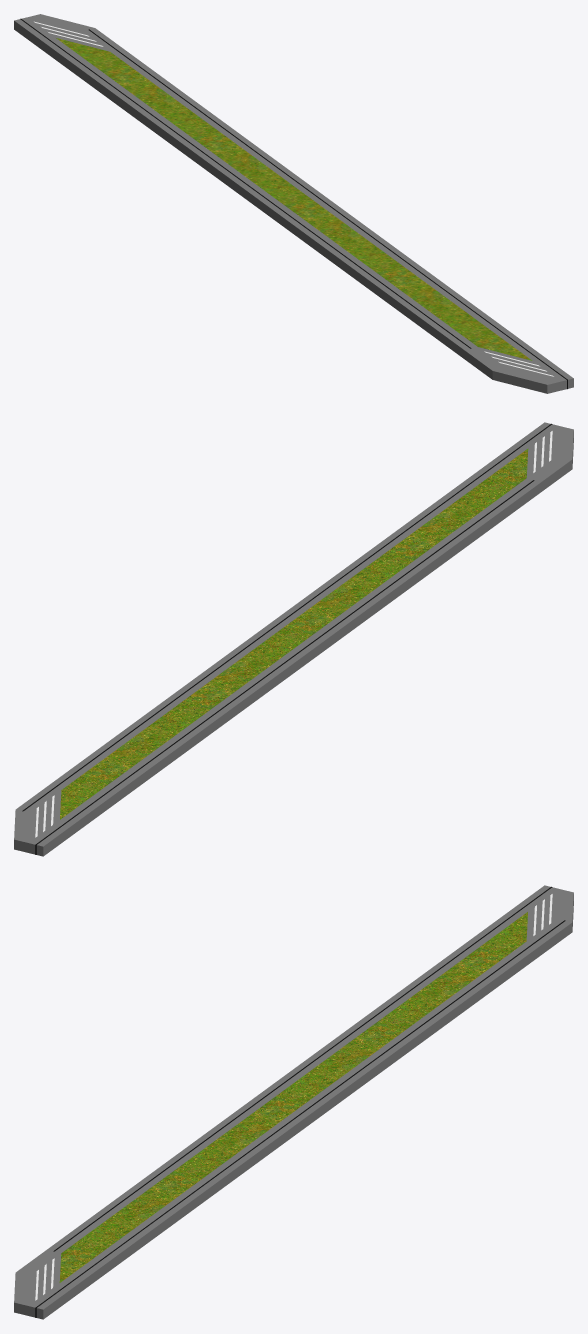
File: W_O_Playground_Glassbed_001_L1.fbx
3 views of the same model, one above another, from view 1: azimuth 30°, elevation 25°; view 2: azimuth 150°, elevation 25°; view 3: azimuth 330°, elevation 25° (orthographic). The views are drawn at different scales.
Parts seen in each view (by area): view 1: W_O_Playground_Glassbed_001_L1; view 2: W_O_Playground_Glassbed_001_L1; view 3: W_O_Playground_Glassbed_001_L1.
Part boxes in pixels (bbox=[...]): W_O_Playground_Glassbed_001_L1: bbox=[14, 14, 573, 393]; W_O_Playground_Glassbed_001_L1: bbox=[14, 422, 573, 856]; W_O_Playground_Glassbed_001_L1: bbox=[14, 885, 573, 1319].
Bounding box in the file's own units: 0.4829 × 0.0801 × 7.94.
